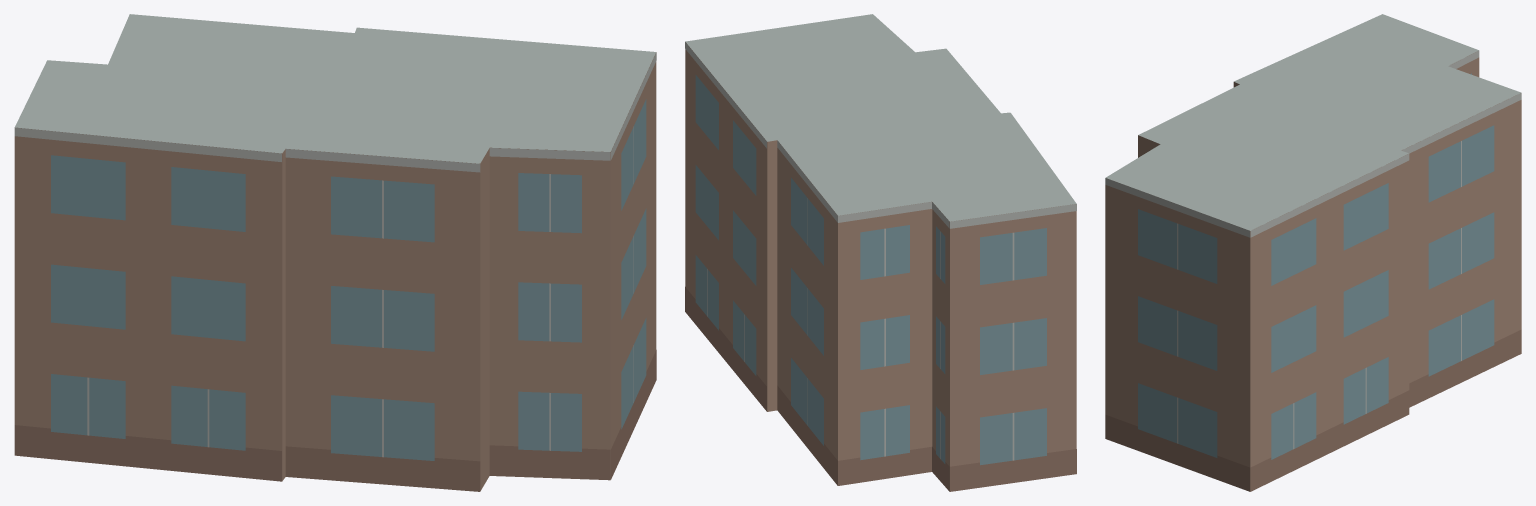
The model's file is survey-upis-32673096.glb.
3 views of the same model, side by side, from view 1: azimuth 30°, elevation 25°; view 2: azimuth 150°, elevation 25°; view 3: azimuth 270°, elevation 25° (orthographic). The views are drawn at different scales.
Parts seen in each view (by area): view 1: survey-upis-32673096.tmp; view 2: survey-upis-32673096.tmp; view 3: survey-upis-32673096.tmp.
Part boxes in pixels (x1,y1,x2,y2): survey-upis-32673096.tmp: (14, 14, 656, 491); survey-upis-32673096.tmp: (685, 14, 1076, 491); survey-upis-32673096.tmp: (1105, 14, 1521, 491).
Bounding box in the file's own units: 16.31 × 9.15 × 13.23.
